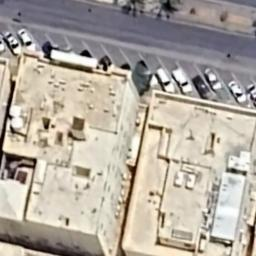SUV: (170, 66, 194, 96), (155, 64, 176, 97)
sedan: (189, 73, 212, 101), (203, 64, 224, 94), (16, 26, 38, 54), (2, 30, 22, 56), (228, 79, 248, 105), (242, 80, 256, 108), (0, 28, 6, 54)
